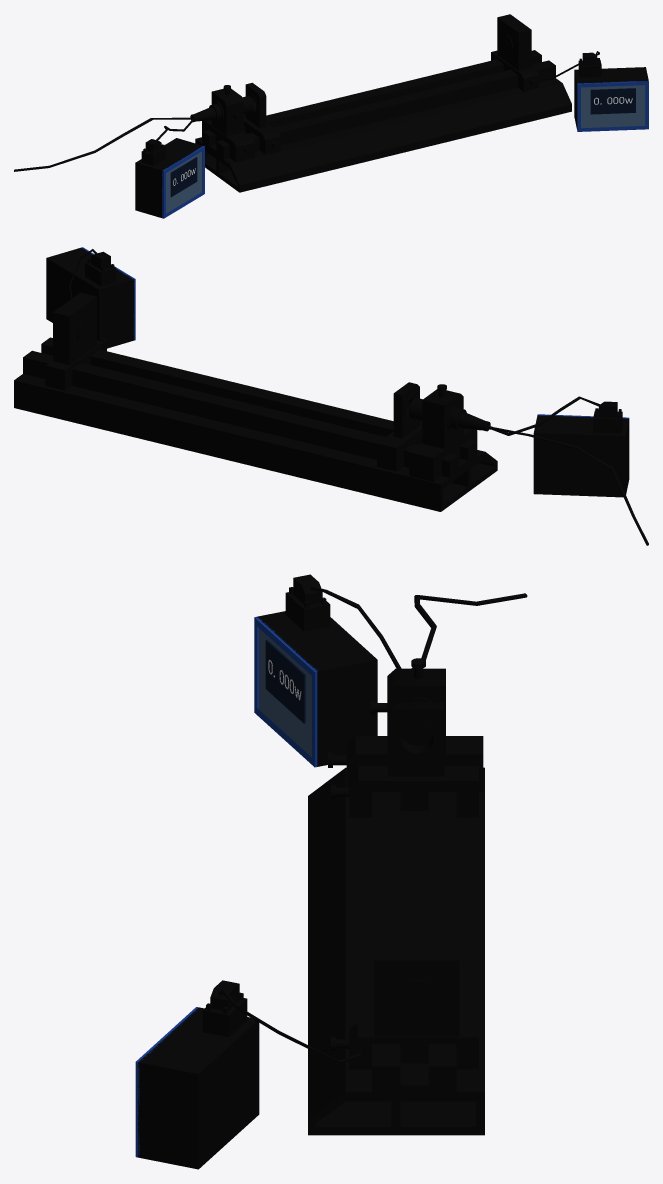
The model's file is lazer (1).fbx.
3 renders of one model, top to bottom at view 1: azimuth 30°, elevation 25°; view 2: azimuth 150°, elevation 25°; view 3: azimuth 270°, elevation 25°, orthographic. The views are drawn at different scales.
Visible parts, largest first — view 1: Box001, Box016, Box004, Group004, Box006, Box005, Box009, Box007, Box008, Group009, Box018, Box017 (+5 smaller); view 2: Box001, Box016, Box007, Box004, Box006, Box005, Box002, Cylinder007, Cylinder018, Box010, Box019; view 3: Box001, Box007, Box016, Box005, Box006, Box004, Box002, Group009, Box017, Box018, Tube005, Box019 (+2 smaller).
Part boxes in pixels (bbox=[...]): Box001: bbox=[195, 50, 571, 192]; Box016: bbox=[135, 138, 202, 217]; Box004: bbox=[202, 88, 254, 162]; Group004: bbox=[581, 85, 645, 128]; Box006: bbox=[497, 14, 531, 70]; Box005: bbox=[244, 82, 280, 154]; Box009: bbox=[590, 88, 635, 114]; Box007: bbox=[574, 67, 648, 129]; Box008: bbox=[577, 81, 648, 131]; Group009: bbox=[166, 151, 202, 213]; Box018: bbox=[170, 157, 197, 197]; Box017: bbox=[162, 146, 204, 218]; Box001: bbox=[14, 337, 497, 511]; Box016: bbox=[533, 415, 629, 497]; Box007: bbox=[46, 247, 134, 348]; Box004: bbox=[409, 389, 477, 481]; Box006: bbox=[53, 292, 96, 365]; Box005: bbox=[377, 382, 422, 471]; Box002: bbox=[45, 340, 106, 390]; Cylinder007: bbox=[408, 397, 490, 431]; Cylinder018: bbox=[487, 426, 648, 545]; Box010: bbox=[85, 262, 116, 286]; Box019: bbox=[593, 411, 622, 433]; Box001: bbox=[308, 767, 484, 1135]; Box007: bbox=[138, 1007, 259, 1169]; Box016: bbox=[257, 611, 377, 766]; Box005: bbox=[349, 702, 478, 817]; Box006: bbox=[374, 948, 459, 1036]; Box004: bbox=[346, 668, 483, 791]; Box002: bbox=[349, 1022, 478, 1069]; Group009: bbox=[259, 628, 311, 757]; Box017: bbox=[254, 617, 317, 767]; Box018: bbox=[265, 640, 305, 723]; Tube005: bbox=[396, 979, 436, 1016]; Box019: bbox=[285, 592, 330, 631].
Bounding box in the file's own units: 180 × 25.71 × 55.49.
